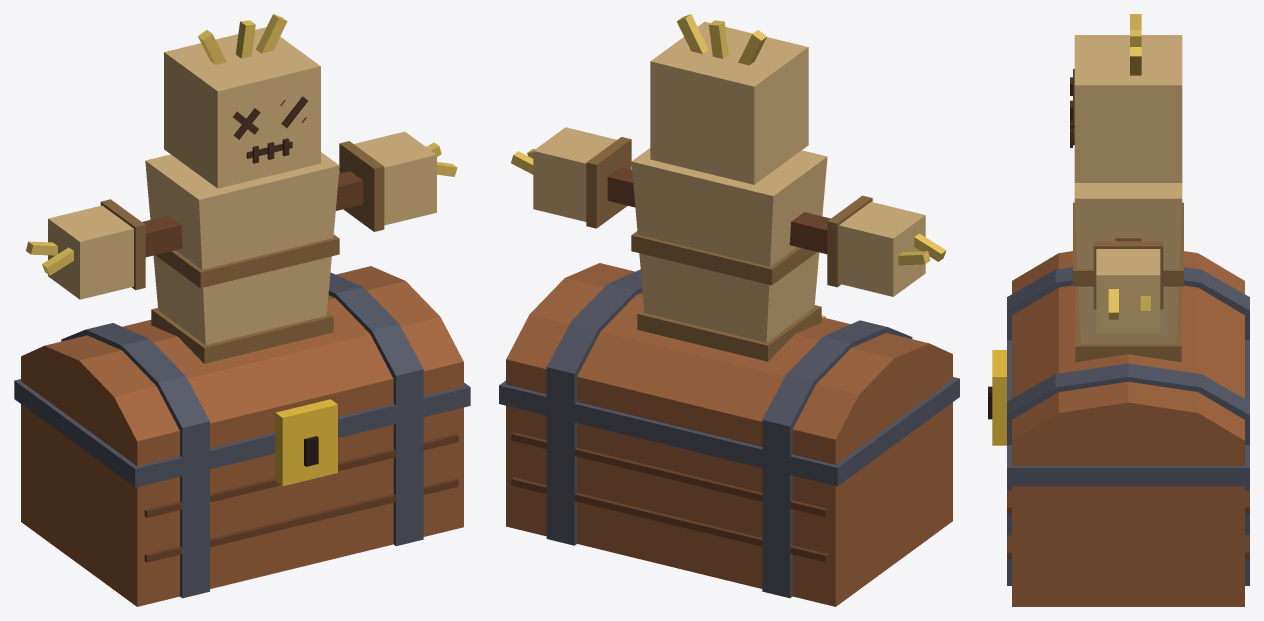
The model's file is shared_shopprops.fbx.
The picture shows the model from 3 angles, left to right: view 1: azimuth 30°, elevation 25°; view 2: azimuth 150°, elevation 25°; view 3: azimuth 270°, elevation 25°; orthographic projection.
Visible parts, largest first — view 1: ShopChest.Wood, TrainingDummy.Burlap, ShopChest.Iron, TrainingDummy.Rope, ShopChest.Gold, ShopChest.Grooves, TrainingDummy.Straw, TrainingDummy.Post, TrainingDummy.Stitches; view 2: ShopChest.Wood, TrainingDummy.Burlap, ShopChest.Iron, TrainingDummy.Rope, ShopChest.Grooves, TrainingDummy.Straw, TrainingDummy.Post; view 3: ShopChest.Wood, TrainingDummy.Burlap, ShopChest.Iron, TrainingDummy.Rope, ShopChest.Gold, TrainingDummy.Straw, ShopChest.Grooves.
Part boxes in pixels (x1,y1,x2,y2): ShopChest.Wood: (21, 266, 463, 606); TrainingDummy.Burlap: (48, 27, 436, 344); ShopChest.Iron: (14, 272, 470, 598); TrainingDummy.Rope: (100, 141, 384, 363); ShopChest.Gold: (275, 399, 337, 486); ShopChest.Grooves: (144, 434, 458, 562); TrainingDummy.Straw: (26, 14, 457, 275); TrainingDummy.Post: (142, 171, 363, 257); TrainingDummy.Stitches: (233, 96, 307, 163); ShopChest.Wood: (506, 263, 952, 606); TrainingDummy.Burlap: (533, 21, 925, 342); ShopChest.Iron: (499, 269, 959, 598); TrainingDummy.Rope: (586, 137, 872, 361); ShopChest.Grooves: (511, 432, 827, 562); TrainingDummy.Straw: (511, 14, 946, 265); TrainingDummy.Post: (607, 167, 830, 254); ShopChest.Wood: (1012, 251, 1244, 606); TrainingDummy.Burlap: (1074, 35, 1182, 344); ShopChest.Iron: (1007, 267, 1249, 585); TrainingDummy.Rope: (1073, 202, 1183, 362); ShopChest.Gold: (992, 350, 1006, 445); TrainingDummy.Straw: (1108, 14, 1150, 319); ShopChest.Grooves: (1007, 490, 1249, 558).
Size of the model in its own units: 3.27 by 3.78 by 1.8.
